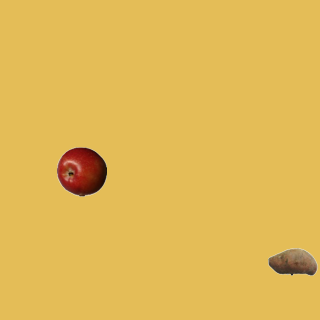Apple Braeburn: (56, 146, 106, 196)
Potato Sweet: (267, 236, 317, 286)
